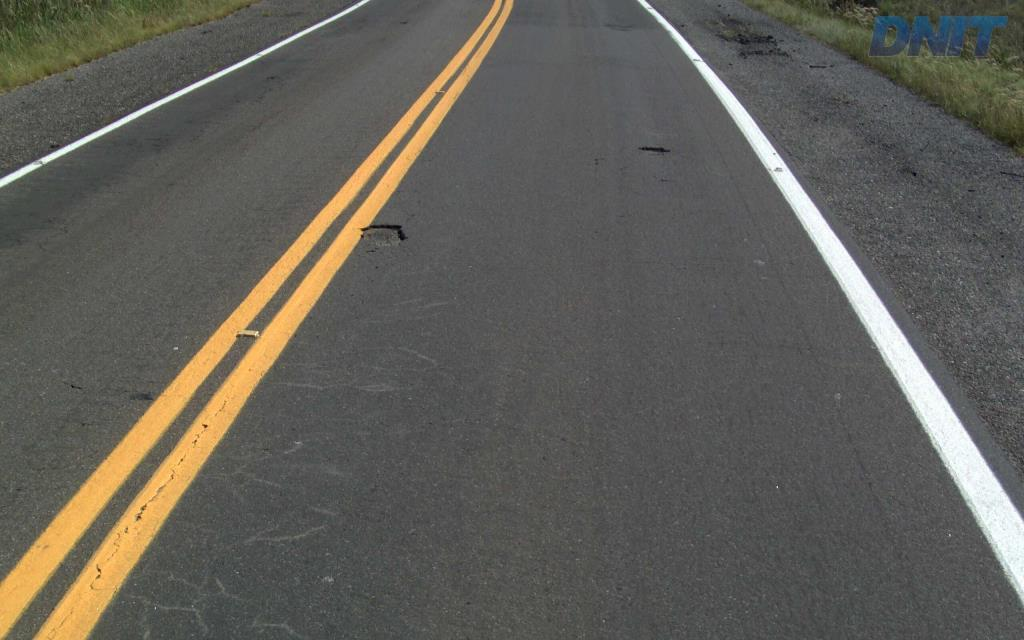pothole: (359, 221, 414, 248), (634, 141, 674, 158)
